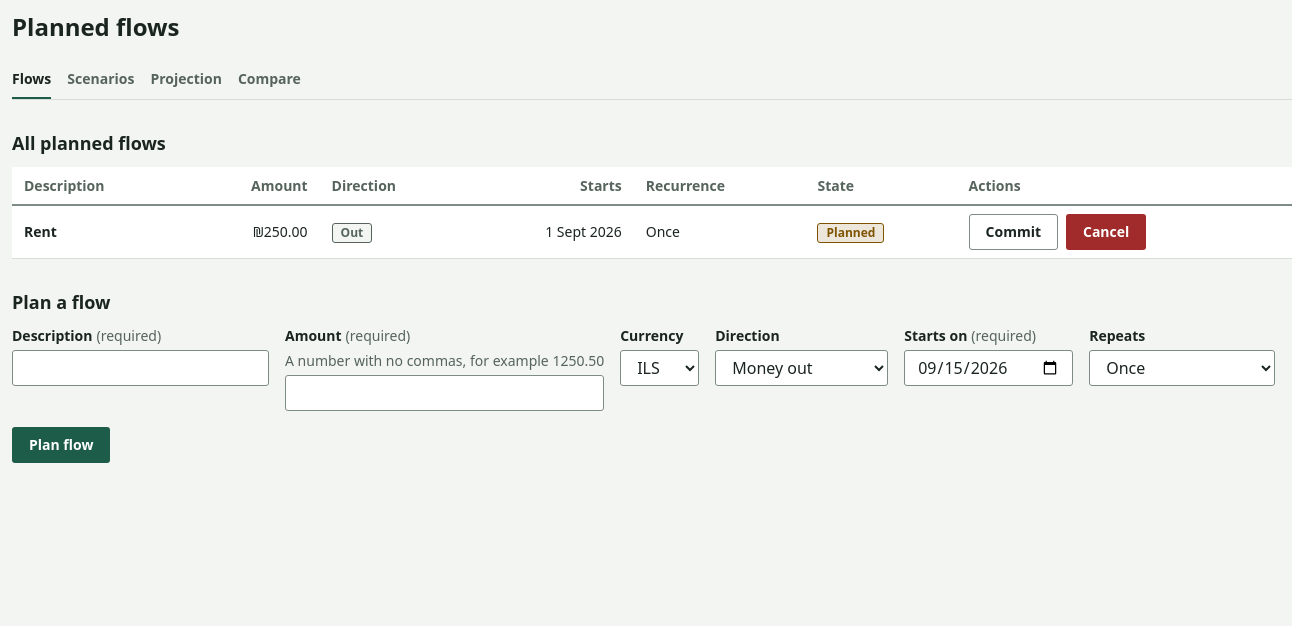
Test: PlannedFlowsPage lifecycle actions › Given_a_planned_flow_When_committed_Then_it_posts_on_and_the_row_shows_the_Committed_badge_and_invalidates_only_flows
Expected: the table named "Planned flows" is shown, [12,166,1291,258]
Click the button "Commit": (1013,232) [969,214,1058,250]
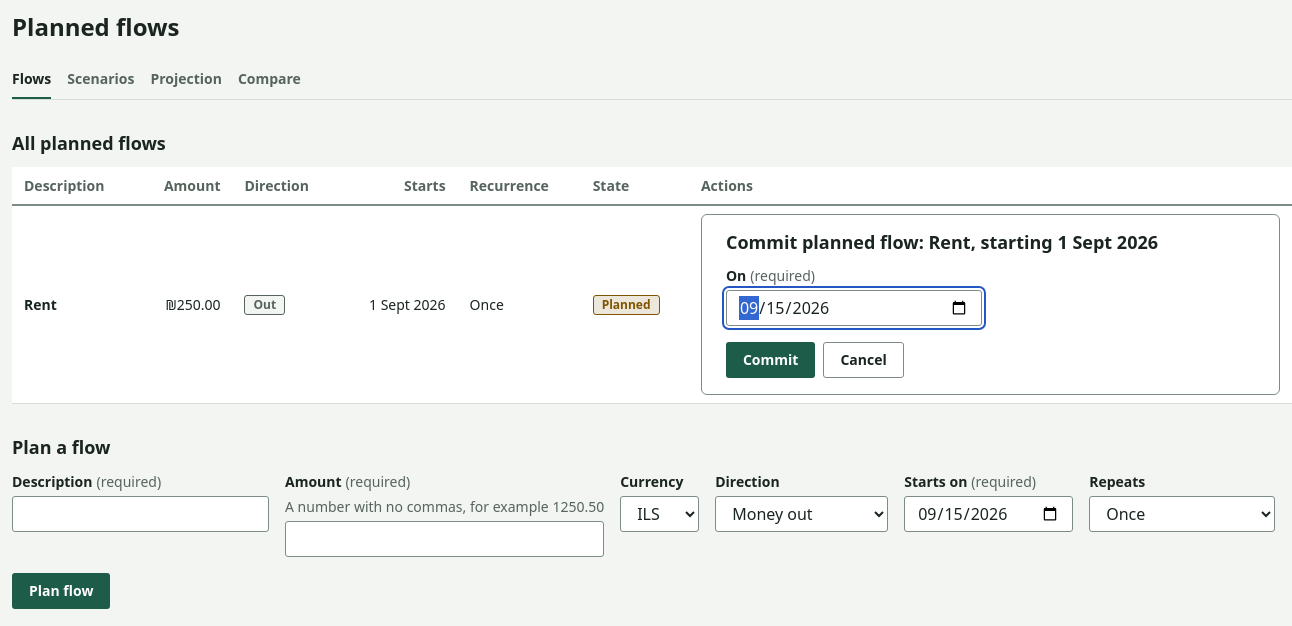
Click the button "Commit": (771,360) [726,342,815,378]
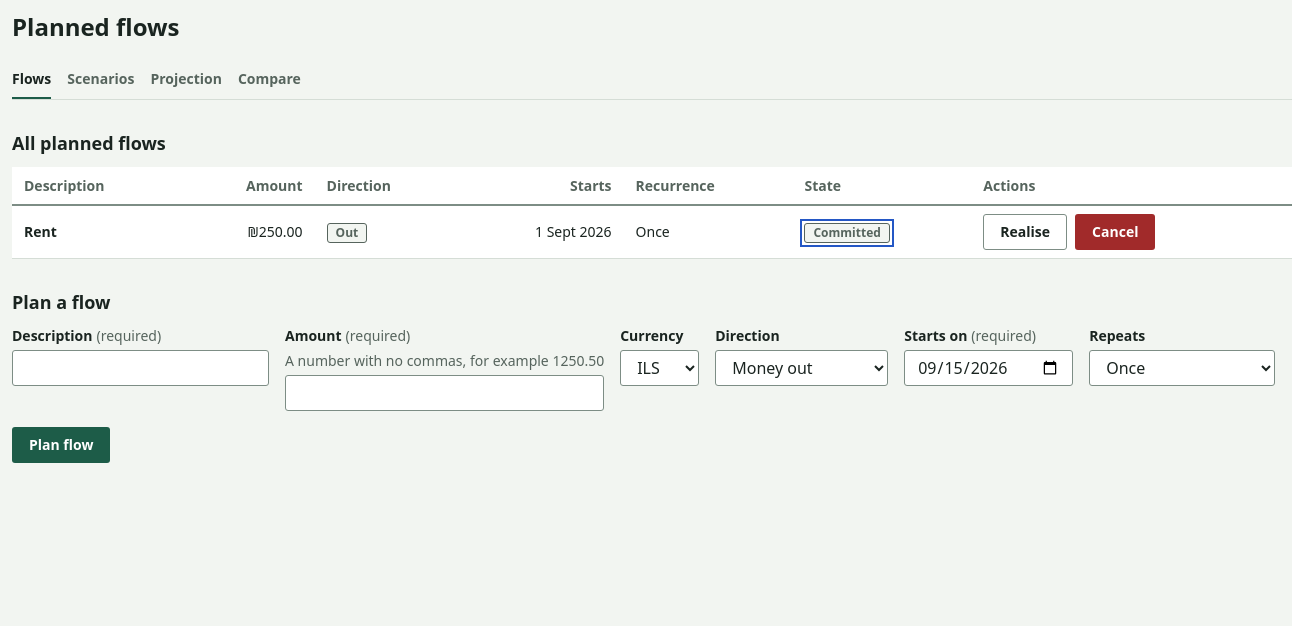
Now the text "Committed" is shown, box [804,222,890,242]
